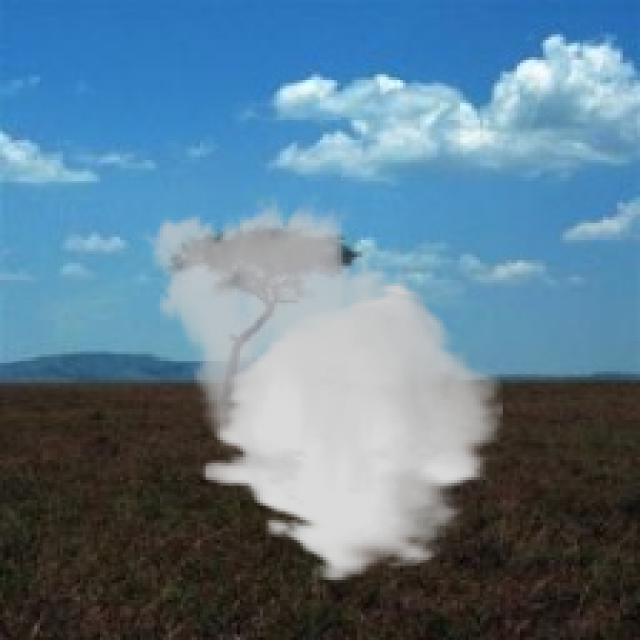smoke: (134, 191, 503, 583)
